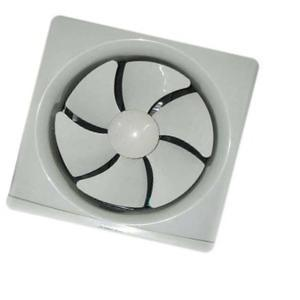fan: (0, 19, 259, 250)
